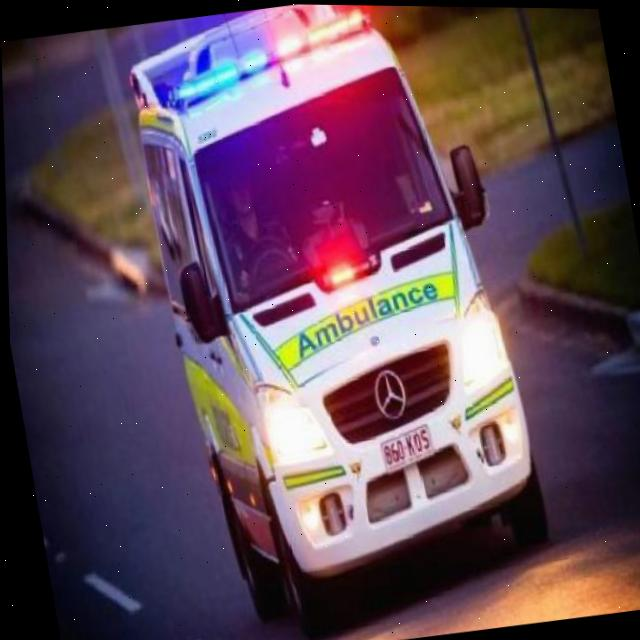emergency: (114, 1, 560, 640)
